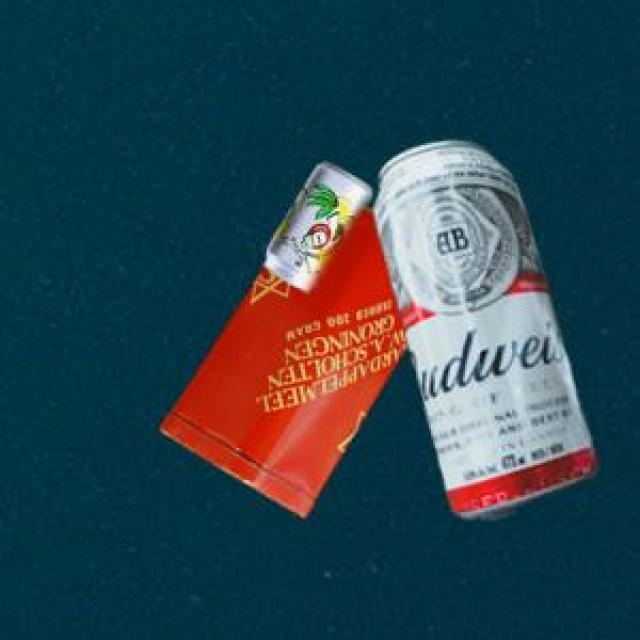logam: (370, 138, 594, 515), (157, 199, 404, 515), (261, 159, 368, 287)
